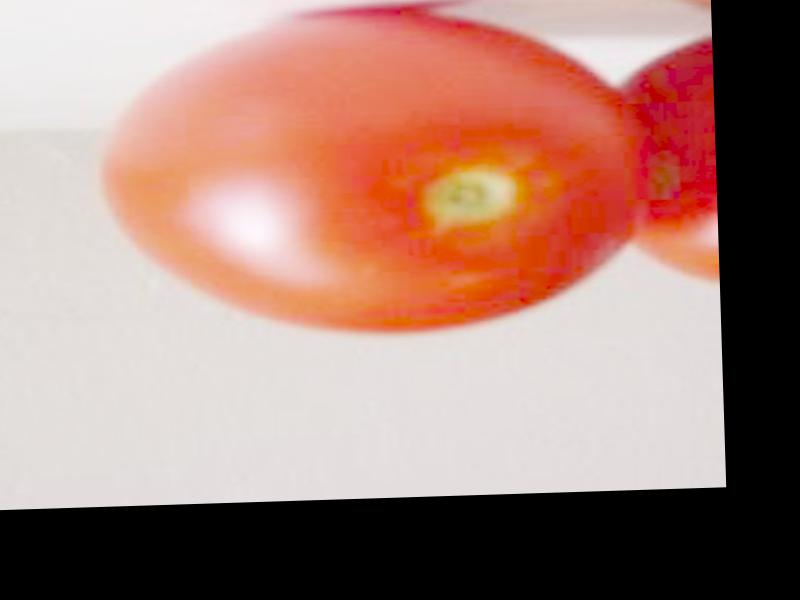Tomato: (95, 3, 650, 343)
